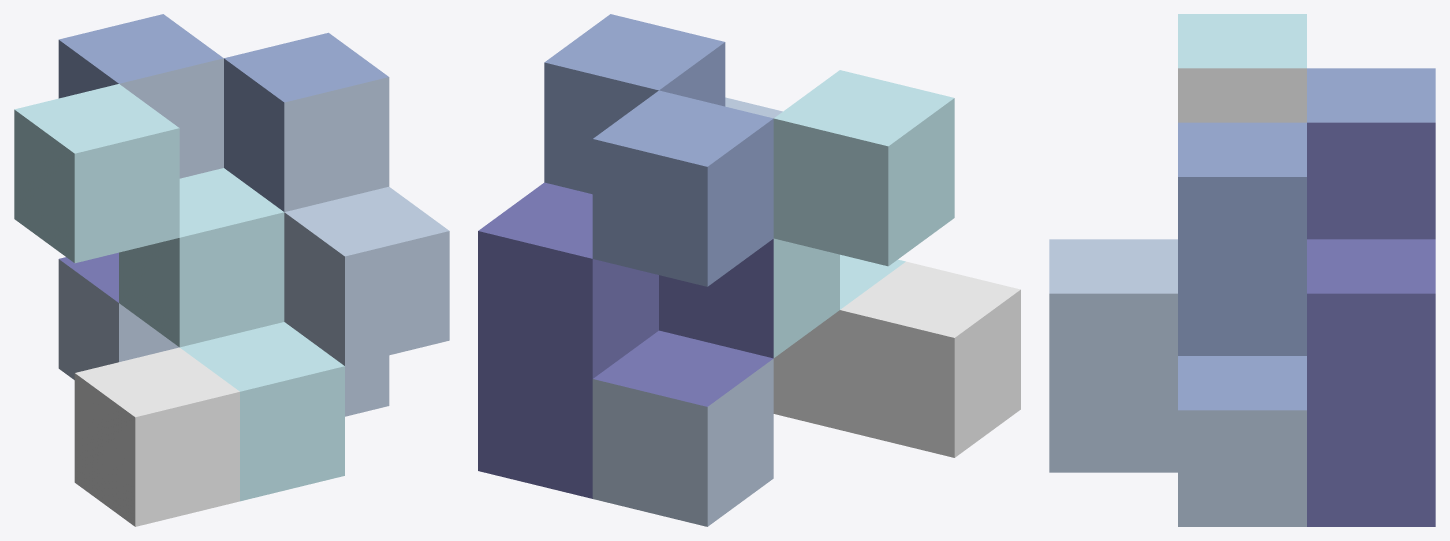
File: Dust.fbx
3 views of the same model, side by side, from view 1: azimuth 30°, elevation 25°; view 2: azimuth 150°, elevation 25°; view 3: azimuth 270°, elevation 25° (orthographic). The views are drawn at different scales.
Parts seen in each view (by area): view 1: cube; view 2: cube; view 3: cube.
Boxes of the visible parts, x1,y1,x2,y2 form: cube: (14, 14, 449, 526); cube: (478, 14, 1020, 526); cube: (1049, 14, 1435, 526).
Size of the model in its own units: 37.5 by 37.5 by 37.5.
Materials: 1 (1 with a texture image).
